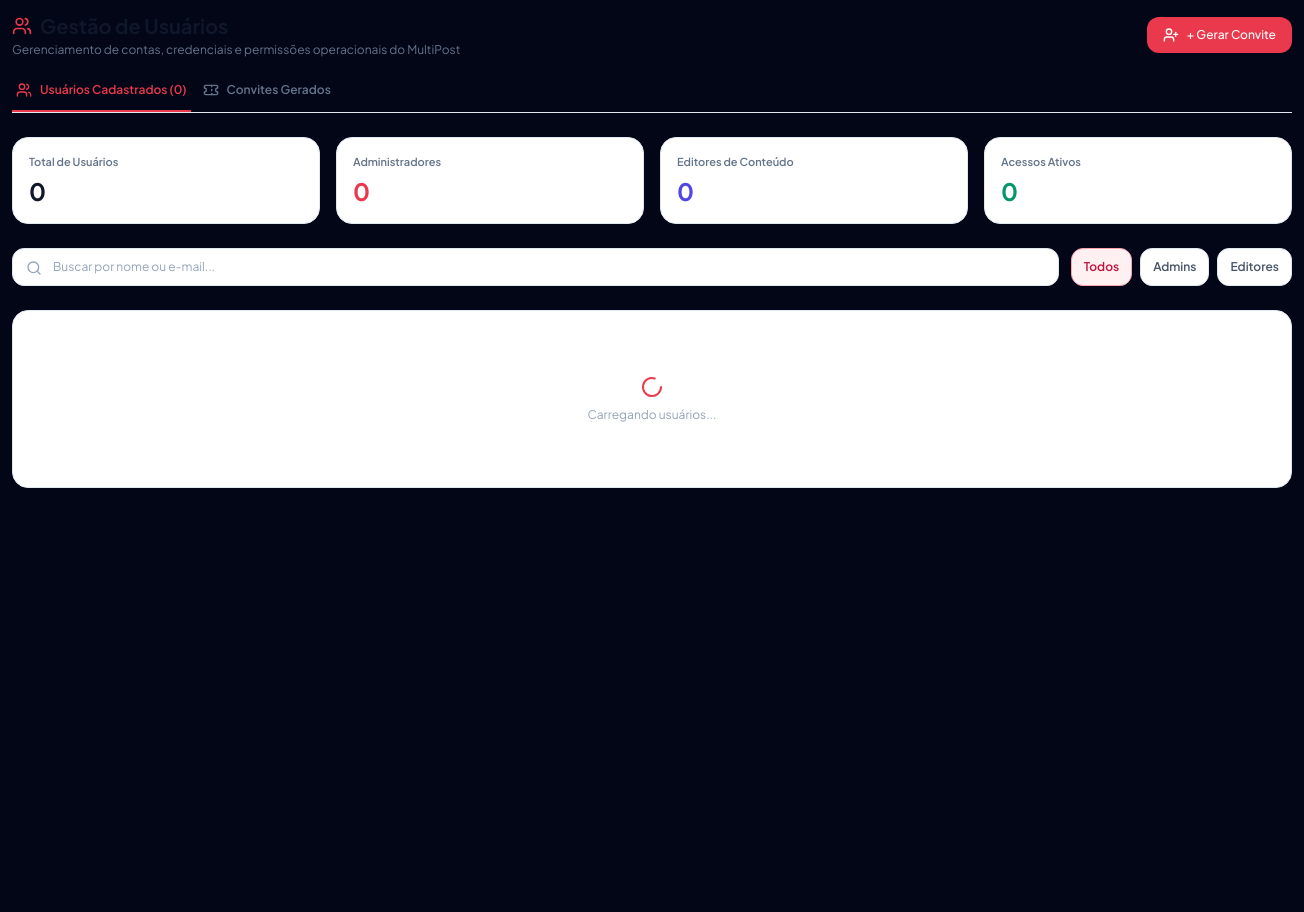
UsersManagement Component › switches to "Convites Gerados" subtab and displays metrics, filters, and list of invites
The image size is (1304, 912).
# Clica na subaba de Convites Gerados
Click the button with test id "subtab-invitations".
click(267, 97)  # box [199,82,335,112]
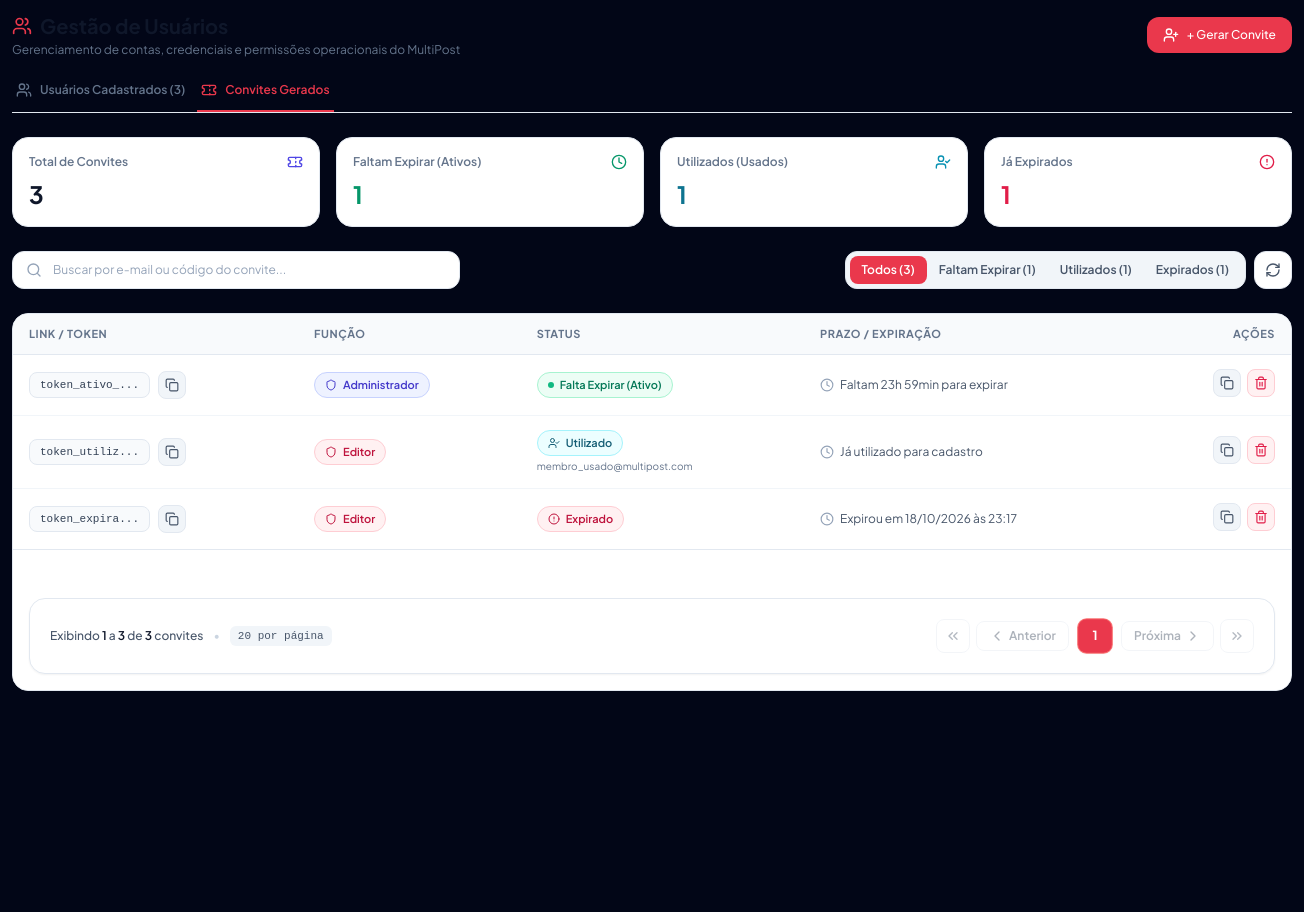
Expected: the element with test id "invitations-list-view" is shown, [12,137,1292,691]
Expected: the text with test id "metric-invites-total" reads "3", [29,179,44,209]
Expected: the text with test id "metric-invites-pending" reads "1", [353,179,363,209]
